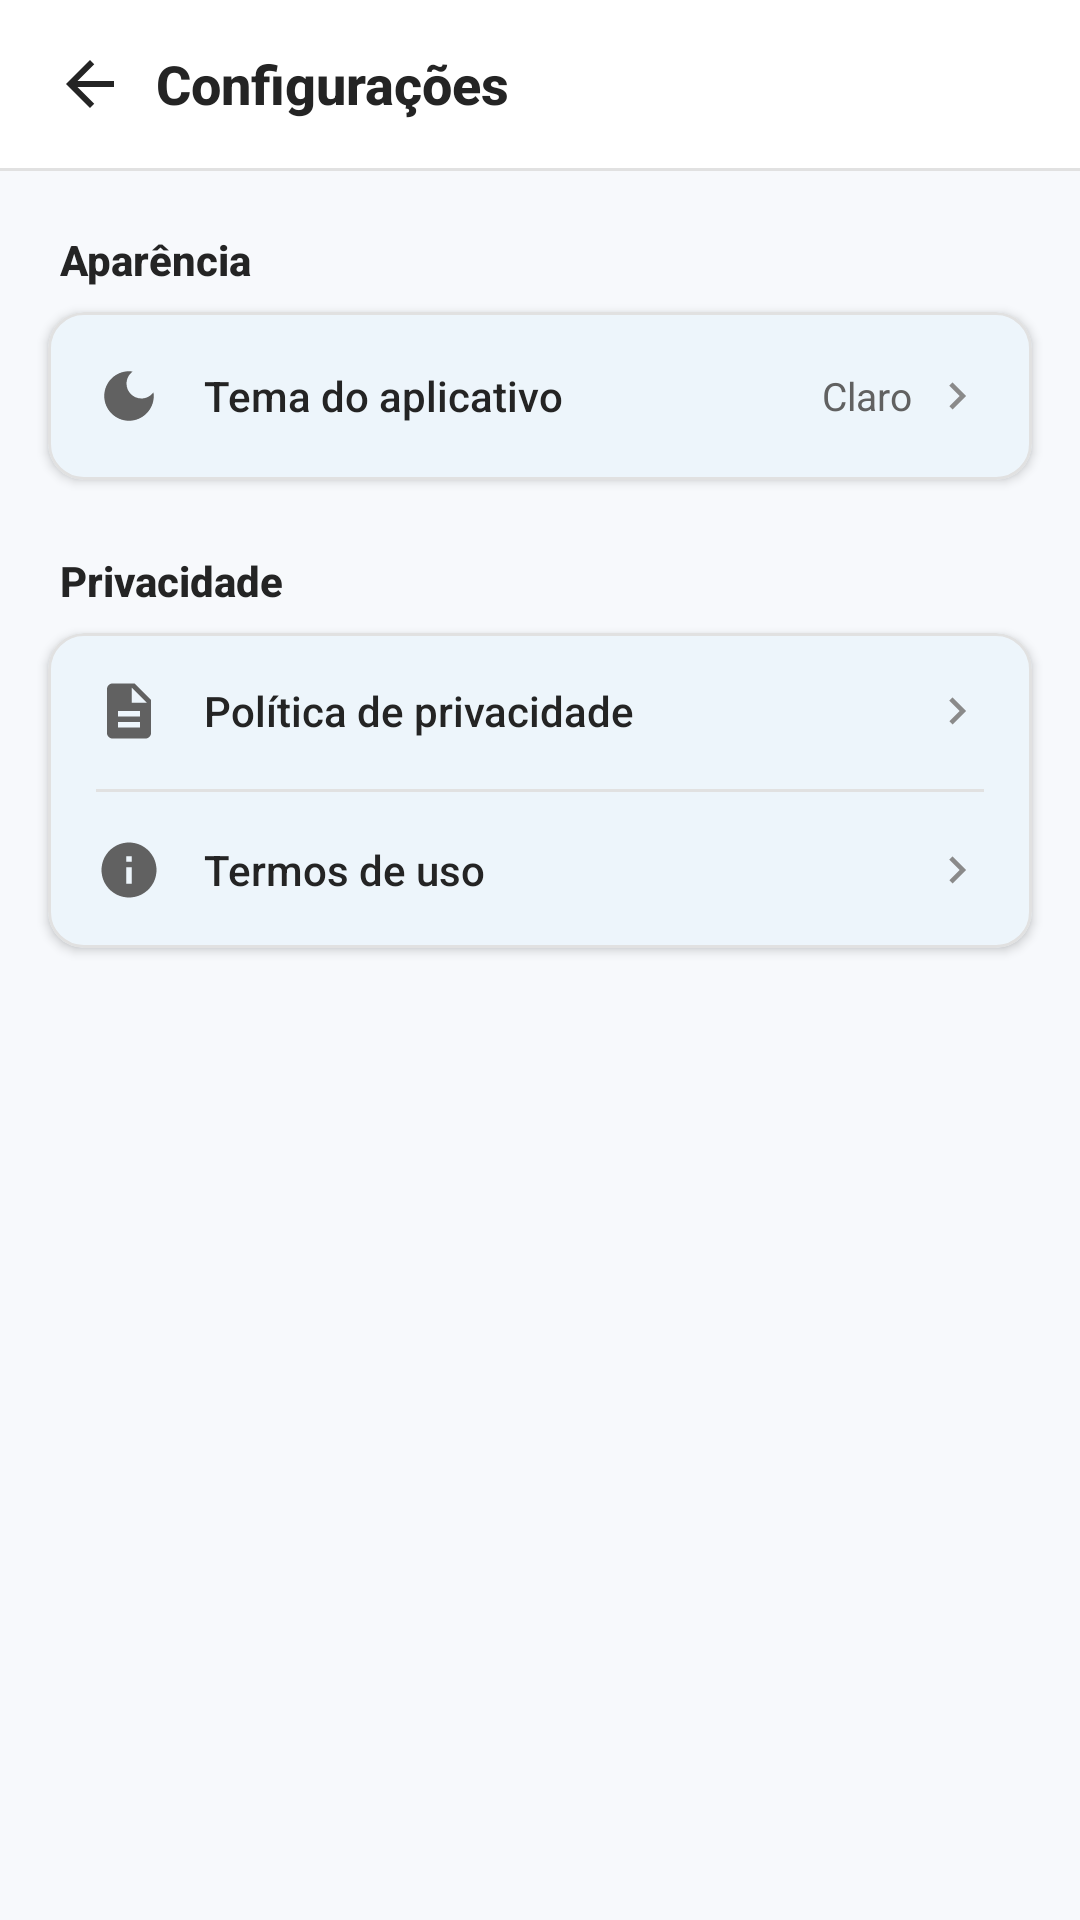

Screen size 1080 x 1920. Icon name, then its center in pixels as (x,y):
category document: (129,711)
chevron right: (957,396), (957,711), (957,870)
info: (129,870)
moon: (129,396)
Voltar: (90,84)
